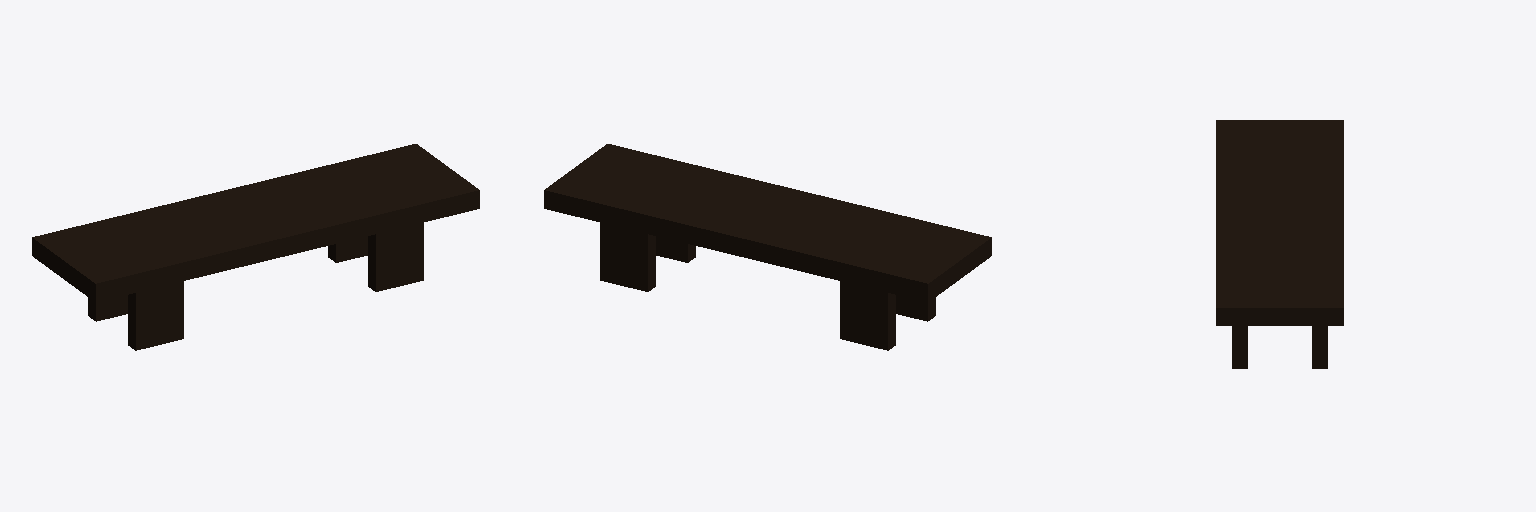
Rendered from tv_stand.obj.
3 views of the same model, side by side, from view 1: azimuth 30°, elevation 25°; view 2: azimuth 150°, elevation 25°; view 3: azimuth 270°, elevation 25° (orthographic).
Parts seen in each view (by area): view 1: tv_stand; view 2: tv_stand; view 3: tv_stand.
Boxes of the visible parts, x1=… form: tv_stand: x1=32, y1=144, x2=479, y2=350; tv_stand: x1=544, y1=144, x2=991, y2=350; tv_stand: x1=1216, y1=120, x2=1343, y2=368.
Bounding box in the file's own units: 15.16 × 3.19 × 4.34.